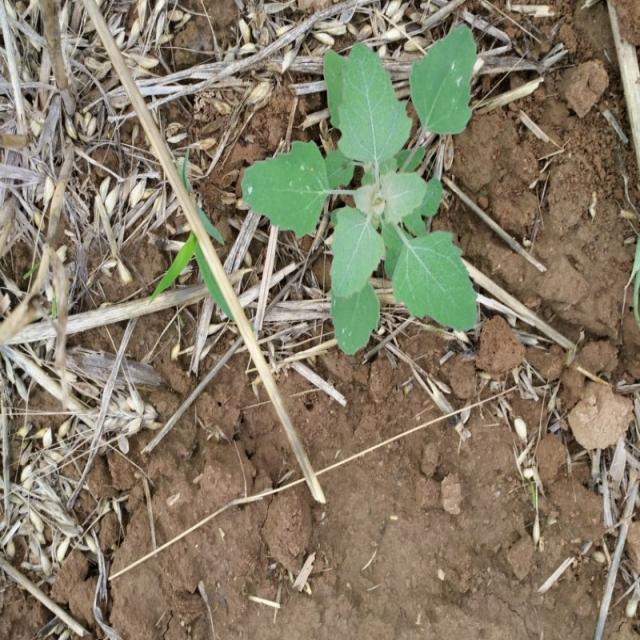goosefoots: (235, 12, 480, 339)
